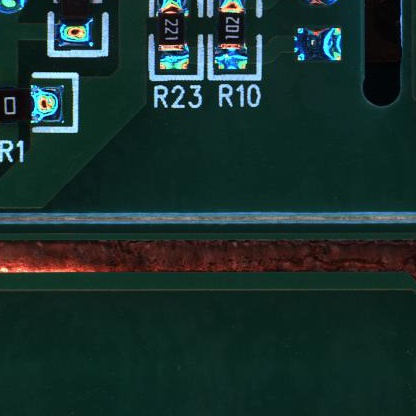spot: (293, 22, 344, 67)
